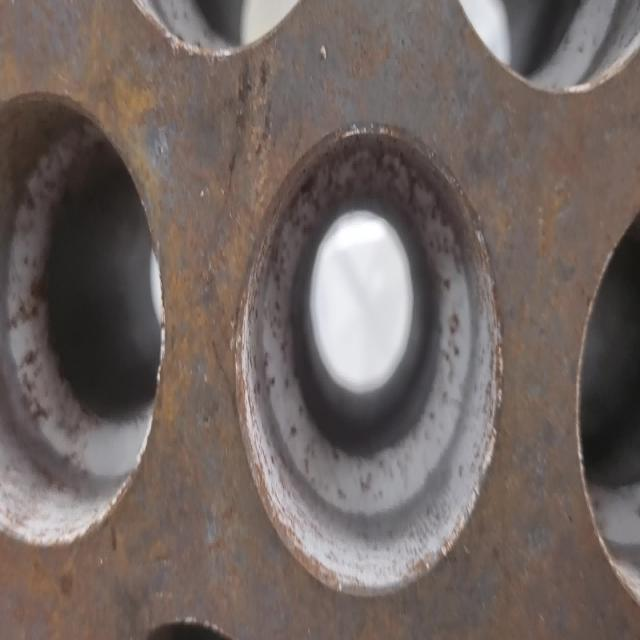Hole: (233, 121, 501, 633), (2, 83, 164, 555)
